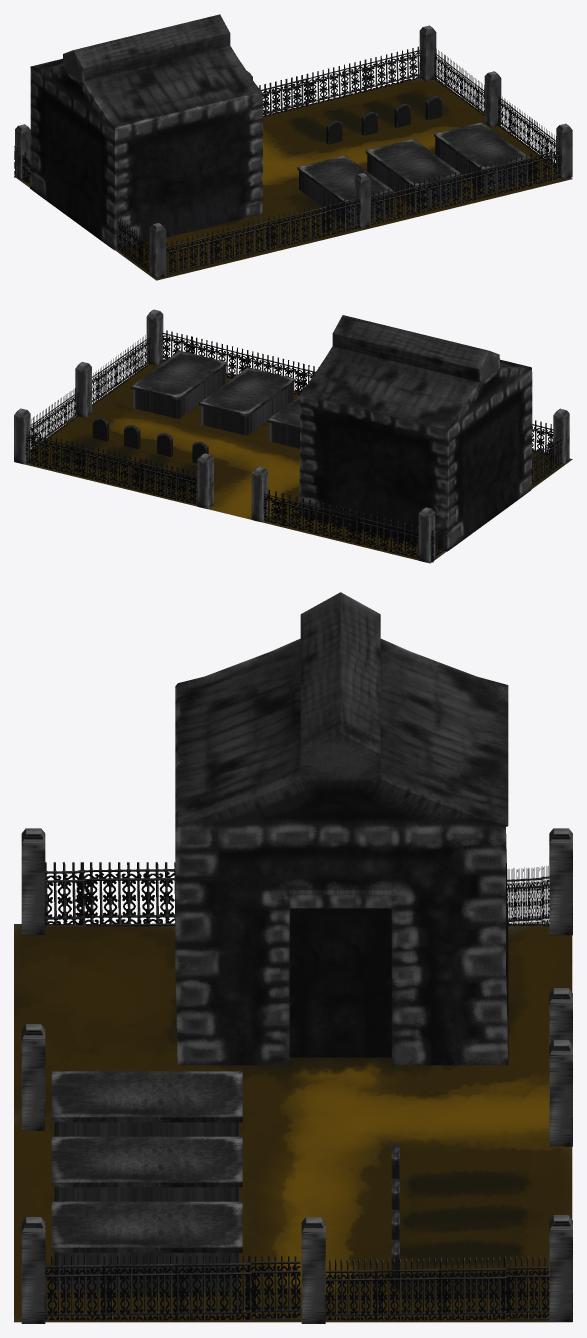
The model's file is Graveyard.fbx.
3 renders of one model, top to bottom at view 1: azimuth 30°, elevation 25°; view 2: azimuth 150°, elevation 25°; view 3: azimuth 270°, elevation 25°, orthographic. The views are drawn at different scales.
Visible parts, largest first — view 1: graveyard_geo; view 2: graveyard_geo; view 3: graveyard_geo.
Boxes of the visible parts, x1,y1,x2,y2 form: graveyard_geo: [14, 14, 572, 280]; graveyard_geo: [14, 309, 572, 563]; graveyard_geo: [14, 592, 572, 1323].
Size of the model in its own units: 432 by 168 by 254.
